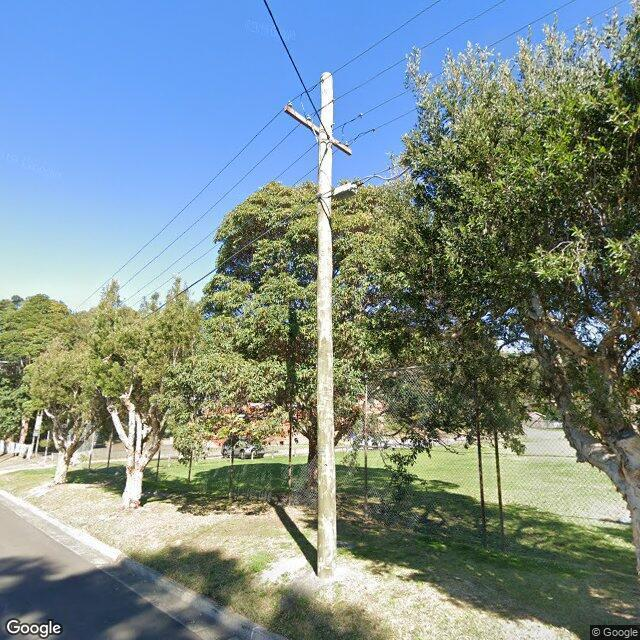crossarm: (282, 106, 352, 156)
timber-pole: (318, 69, 338, 578)
